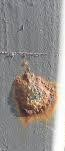Corrosion: (14, 71, 58, 129)
